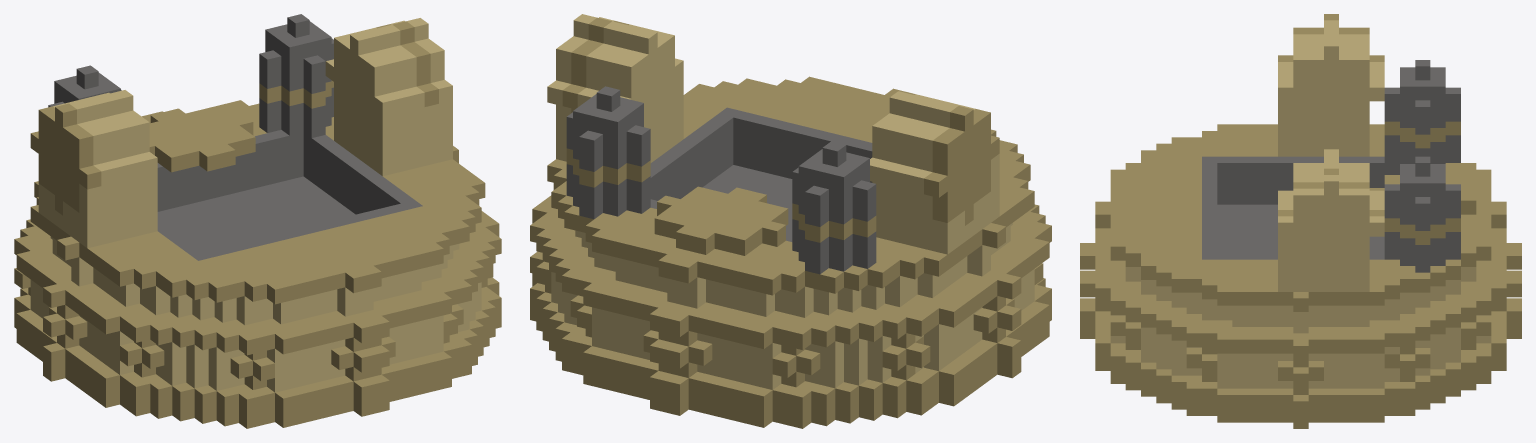
3 views of the same model, side by side, from view 1: azimuth 30°, elevation 25°; view 2: azimuth 150°, elevation 25°; view 3: azimuth 270°, elevation 25° (orthographic). The views are drawn at different scales.
Bounding box in the file's own units: 30 × 17 × 29.
